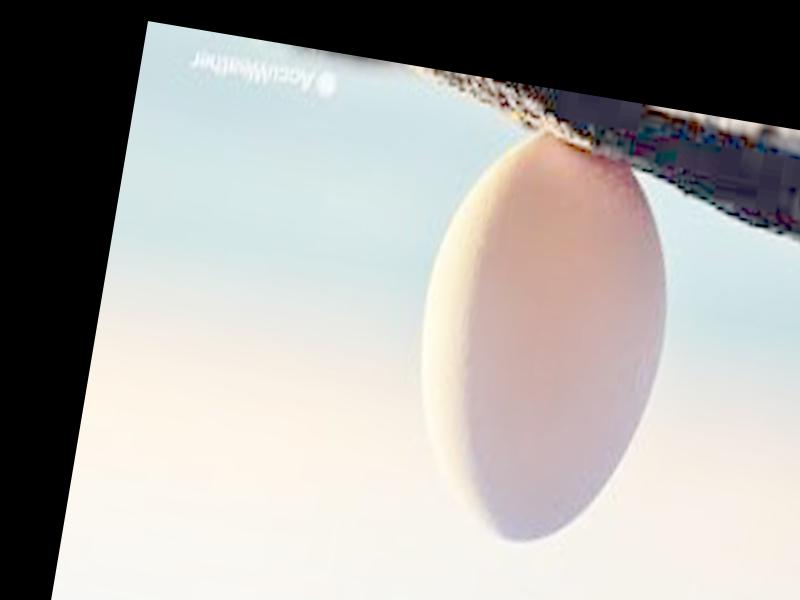Eggs: (387, 122, 694, 564)
